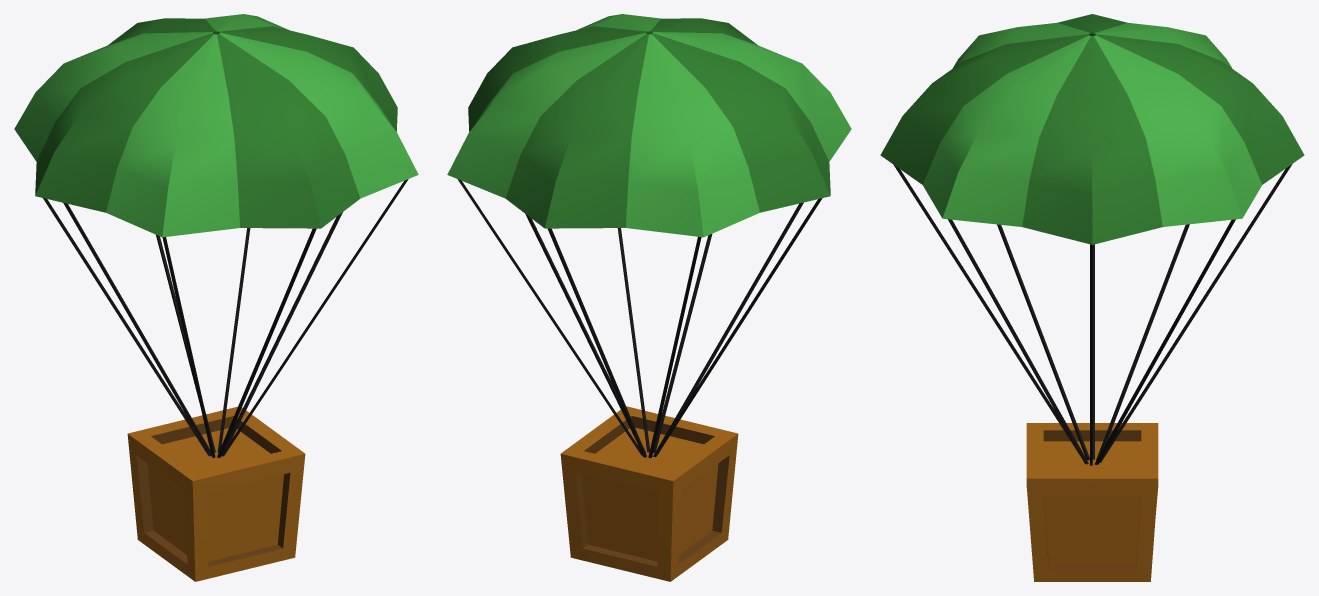
File: wooden_airdrop.fbx
The picture shows the model from 3 angles, left to right: view 1: azimuth 30°, elevation 25°; view 2: azimuth 150°, elevation 25°; view 3: azimuth 270°, elevation 25°; orthographic projection.
Parts seen in each view (by area): view 1: Wooden_airdrop; view 2: Wooden_airdrop; view 3: Wooden_airdrop.
Part boxes in pixels (x1,y1,x2,y2): Wooden_airdrop: (14,14,418,581); Wooden_airdrop: (447,14,851,581); Wooden_airdrop: (880,14,1304,581).
Size of the model in its own units: 15.71 by 21.36 by 15.71.
